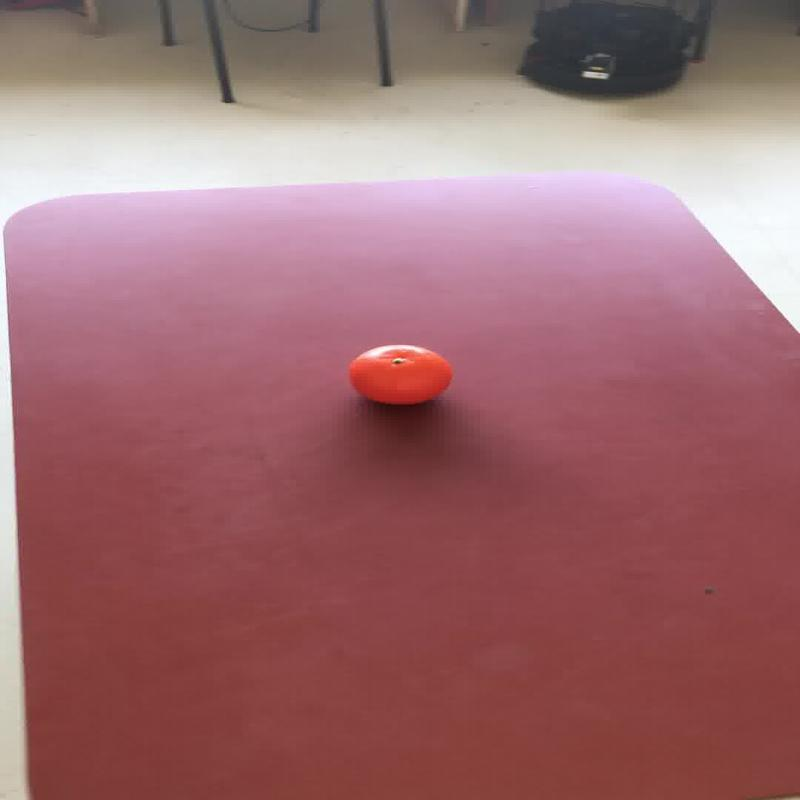orange: (347, 343, 452, 405)
